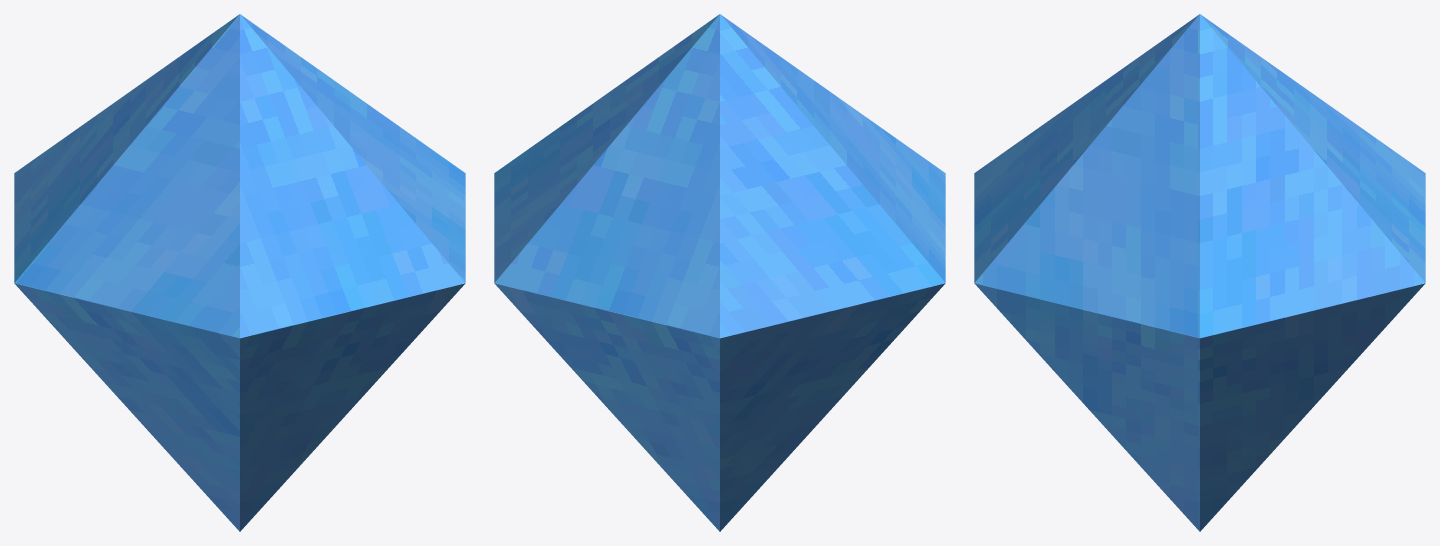
The model's file is Diamond.glb.
The picture shows the model from 3 angles, left to right: view 1: azimuth 30°, elevation 25°; view 2: azimuth 150°, elevation 25°; view 3: azimuth 270°, elevation 25°; orthographic projection.
Visible parts, largest first — view 1: Diamond; view 2: Diamond; view 3: Diamond.
Boxes of the visible parts, bbox=[...] form: Diamond: bbox=[14, 14, 465, 531]; Diamond: bbox=[494, 14, 945, 531]; Diamond: bbox=[974, 14, 1425, 531].
Bounding box in the file's own units: 0.533 × 0.5843 × 0.4615.
Materials: 1 (1 with a texture image).
